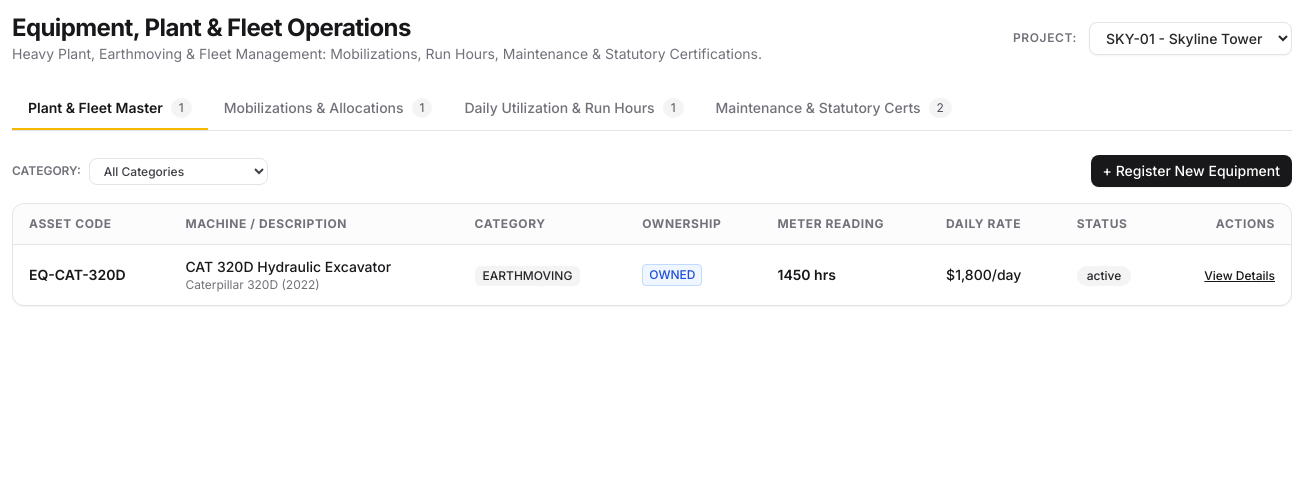
EquipmentPage Component › switches to Maintenance & Statutory Certs tab and renders calibration info
Expected: the heading "Equipment, Plant & Fleet Operations" is shown, [12, 13, 411, 42]
Click the button "Maintenance & Statutory Certs 2": [834, 109] box [700, 88, 968, 130]
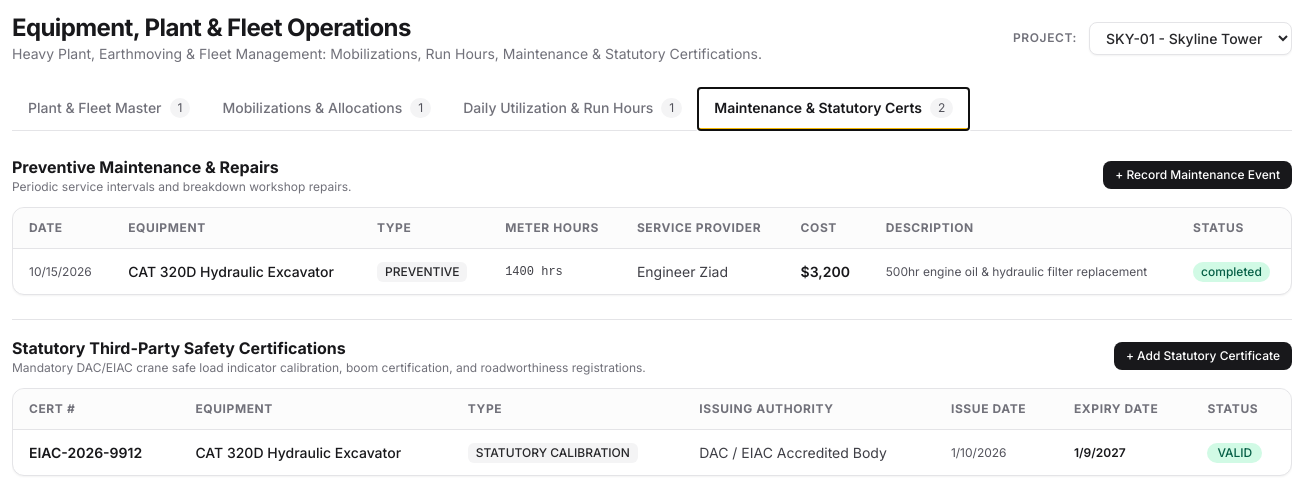
Expected: the text "EIAC-2026-9912" is shown, [13, 430, 179, 475]
Expected: the text "DAC / EIAC Accredited Body" is shown, [683, 430, 935, 475]
Expected: the text "500hr engine oil & hydraulic filter replacement" is shown, [870, 248, 1177, 294]
